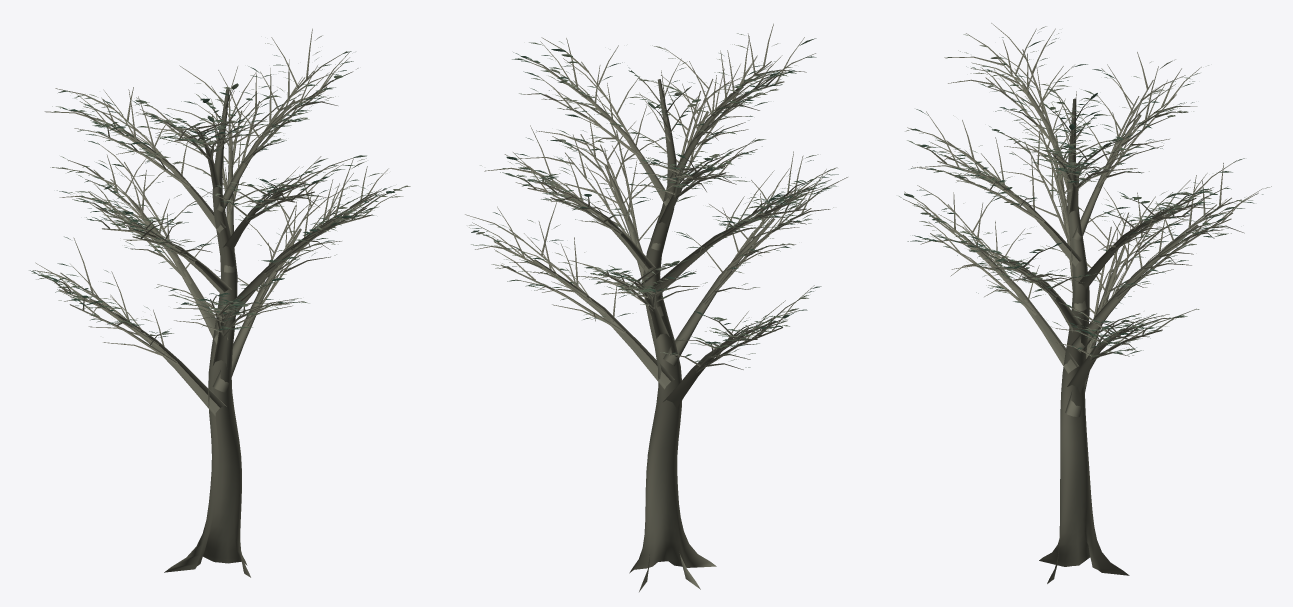
The picture shows the model from 3 angles, left to right: view 1: azimuth 30°, elevation 25°; view 2: azimuth 150°, elevation 25°; view 3: azimuth 270°, elevation 25°; orthographic projection. The views are drawn at different scales.
Visible parts, largest first — view 1: branches, leaves; view 2: branches, leaves; view 3: branches, leaves.
Boxes of the visible parts, <box> form: branches: <box>32,28,407,577</box>; leaves: <box>29,35,410,343</box>; branches: <box>465,23,847,591</box>; leaves: <box>469,33,838,367</box>; branches: <box>903,23,1263,583</box>; leaves: <box>899,26,1271,356</box>.
Bounding box in the file's own units: 6.02 × 8.69 × 5.94.
